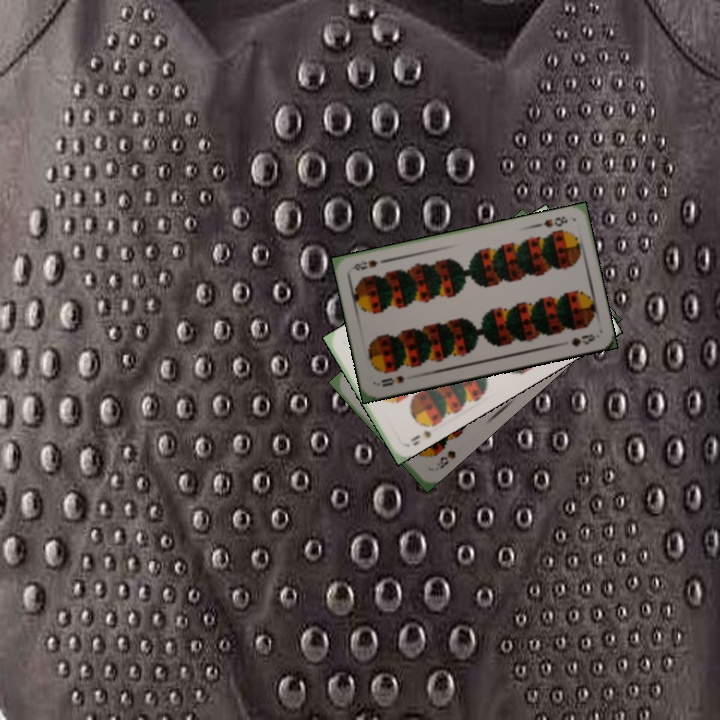S8: (532, 212, 570, 231), (433, 446, 458, 472), (377, 372, 407, 389)
S9: (406, 420, 438, 444)
